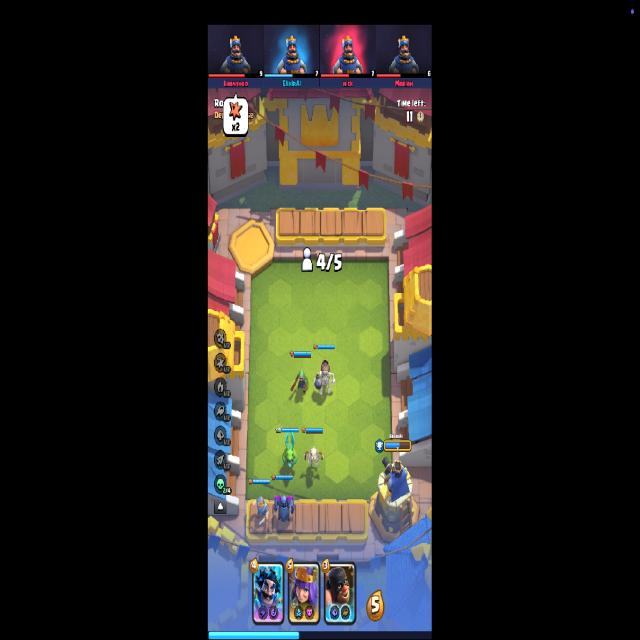baby_dragon: (283, 432, 298, 470)
bandit: (290, 370, 309, 396)
card_archer_queen: (288, 560, 319, 623)
card_e_wiz: (252, 561, 284, 626)
card_executioner: (324, 559, 356, 626)
giant_skeleton: (314, 360, 336, 399)
knight: (250, 497, 270, 527)
pekka: (274, 494, 295, 524)
skeleton_dragon: (304, 446, 324, 471)
